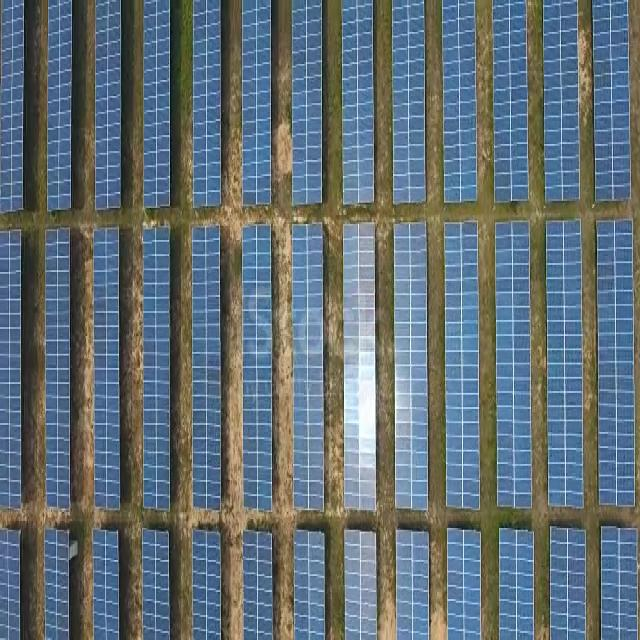Solar-panels: (598, 218, 636, 506), (447, 217, 484, 512), (497, 221, 533, 507), (549, 222, 584, 508), (396, 225, 429, 512), (345, 224, 378, 511), (292, 222, 324, 511), (191, 224, 222, 509), (243, 226, 273, 510), (142, 227, 172, 510), (92, 226, 122, 508), (46, 226, 73, 509), (545, 2, 582, 204), (597, 2, 633, 203), (494, 1, 528, 204), (445, 2, 479, 204), (394, 2, 428, 203), (343, 2, 376, 208), (242, 2, 273, 209), (292, 5, 323, 206), (193, 2, 223, 204), (1, 229, 22, 510), (144, 4, 170, 212), (48, 1, 73, 210), (96, 2, 121, 211), (1, 1, 25, 215), (550, 531, 590, 640), (500, 531, 536, 639), (604, 531, 639, 640), (448, 528, 482, 640), (345, 532, 378, 640), (398, 531, 430, 639), (295, 532, 327, 640), (244, 532, 275, 639), (194, 532, 224, 640), (142, 531, 171, 640), (94, 532, 120, 639), (46, 530, 70, 640), (1, 527, 22, 640)
